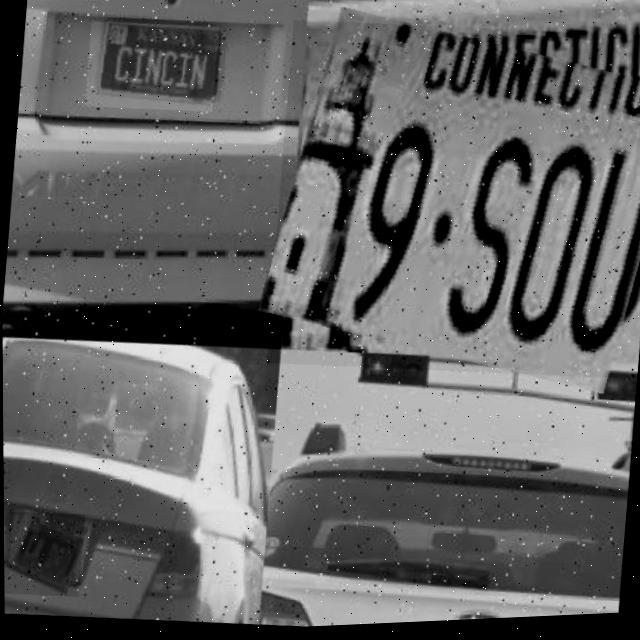LicensePlate: (263, 10, 640, 397), (85, 22, 218, 113), (3, 508, 84, 600)
